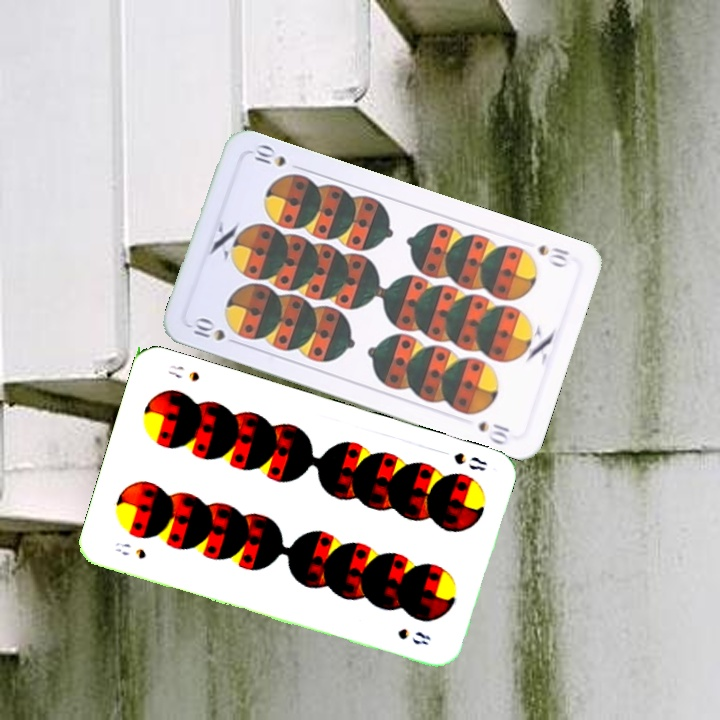S10: (186, 315, 243, 348), (534, 240, 573, 270)
S8: (450, 448, 489, 474), (111, 538, 149, 562)
